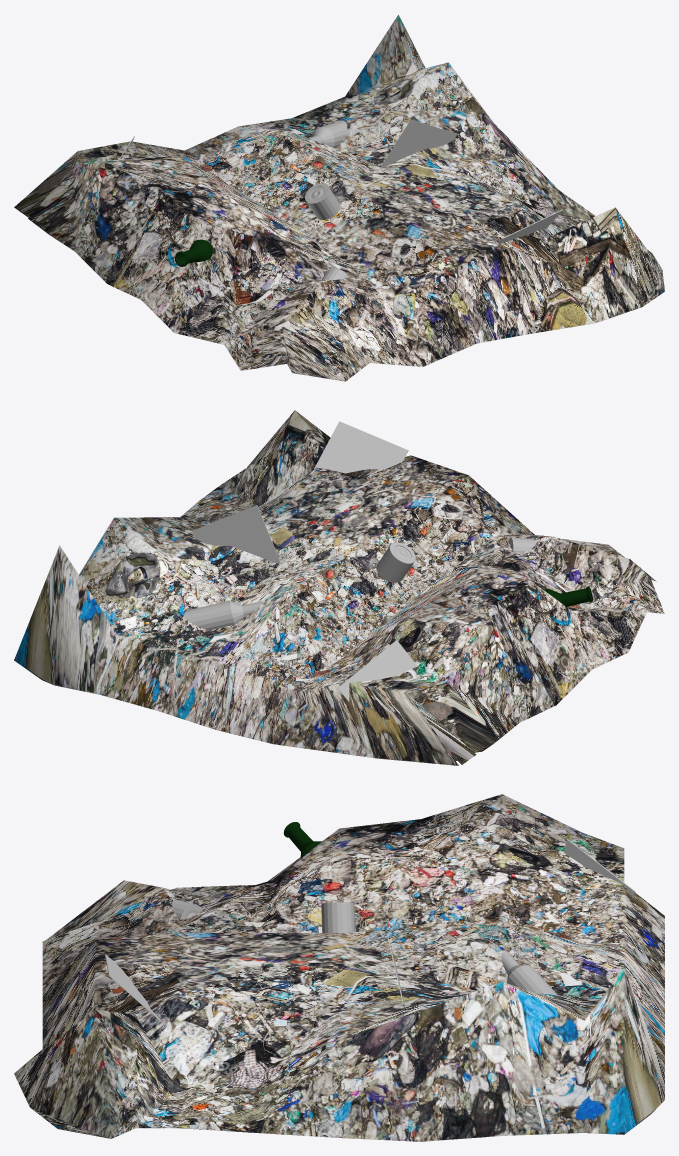
File: waste.fbx
The picture shows the model from 3 angles, top to bottom: view 1: azimuth 30°, elevation 25°; view 2: azimuth 150°, elevation 25°; view 3: azimuth 270°, elevation 25°; orthographic projection. The views are drawn at different scales.
Visible parts, largest first — view 1: pPlane1, pCube2, pCylinder1, pCylinder2, pCylinder3; view 2: pPlane1, pCube3, pCube2, pCube1, pCylinder2, pCylinder1, pCylinder3; view 3: pPlane1, pCylinder2, pCylinder1, pCube1, pCube3, pCylinder3.
Part boxes in pixels (x1,y1,x2,y2): pPlane1: (14,14,664,381); pCube2: (380,119,457,167); pCylinder1: (305,183,340,219); pCylinder2: (309,120,347,147); pCylinder3: (175,239,212,266); pPlane1: (14,410,664,765); pCube3: (314,421,408,473); pCube2: (192,505,280,563); pCube1: (338,640,416,701); pCylinder2: (184,600,263,630); pCylinder1: (376,542,415,582); pCylinder3: (543,586,592,606); pPlane1: (14,794,664,1141); pCylinder2: (501,952,557,995); pCylinder1: (321,902,355,932); pCube1: (564,838,635,898); pCube3: (105,954,162,1023); pCylinder3: (283,822,322,857).
Size of the model in its own units: 23.21 by 6.33 by 24.35.
